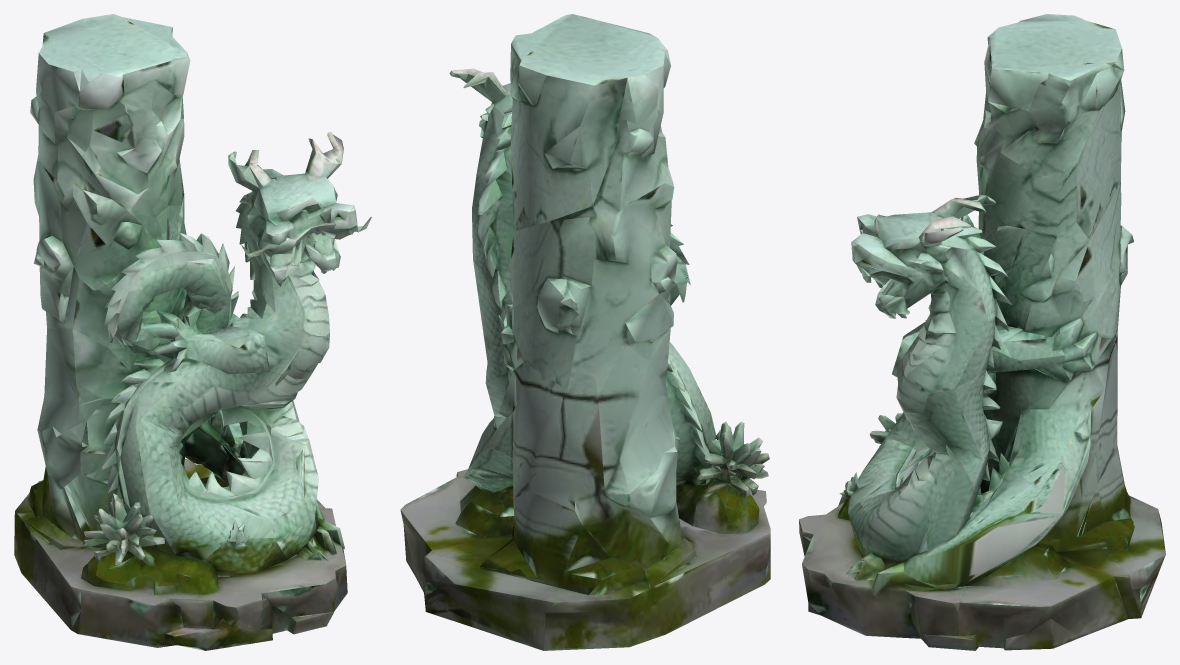
The model's file is dragon-statue.glb.
3 views of the same model, side by side, from view 1: azimuth 30°, elevation 25°; view 2: azimuth 150°, elevation 25°; view 3: azimuth 270°, elevation 25° (orthographic). The views are drawn at different scales.
Size of the model in its own units: 1.09 by 1.9 by 1.21.
Materials: 1 (1 with a texture image).
